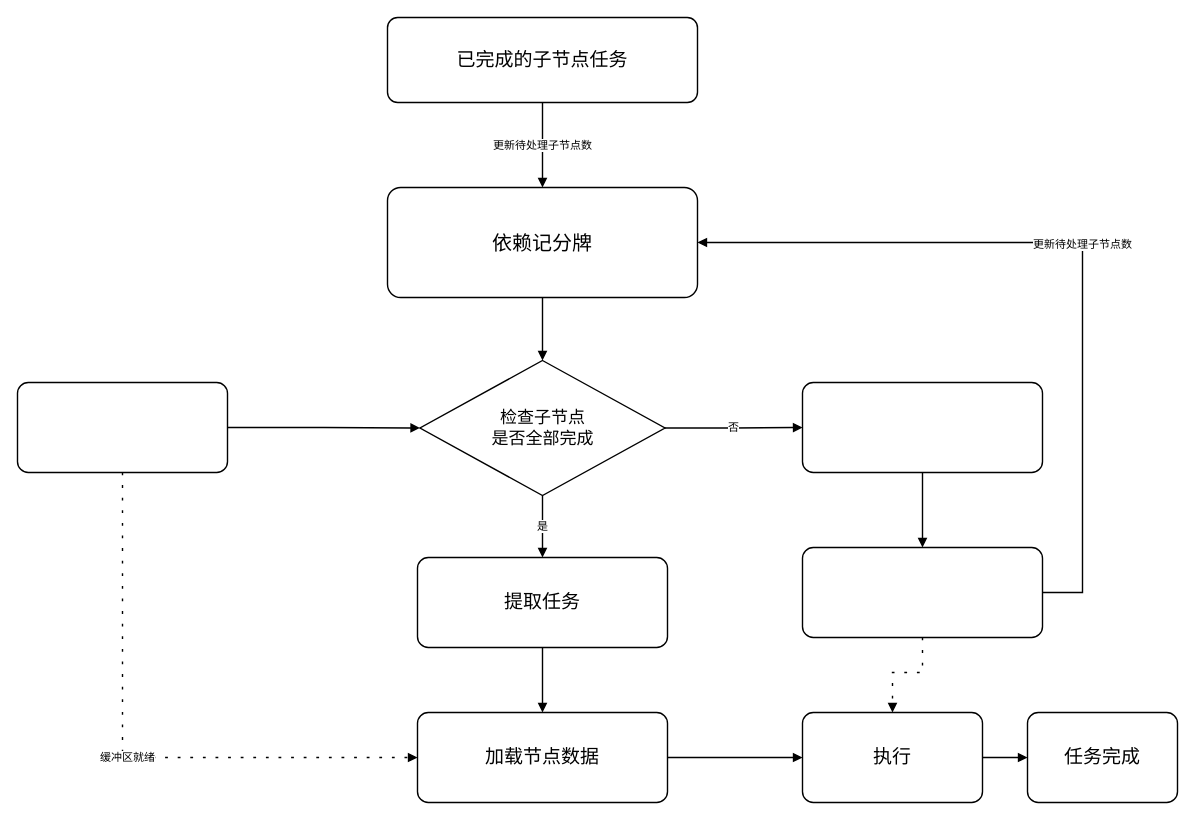
Image size: 1196x821. Some labels were removed from this diagram. The shapes that lost their labels are listed below. From the top down, each one's centre as x and y in pixels, then its label:
pixel 122 427: 任务进入队列
pixel 922 427: 等待子节点任务完成
pixel 922 592: 更新父节点
